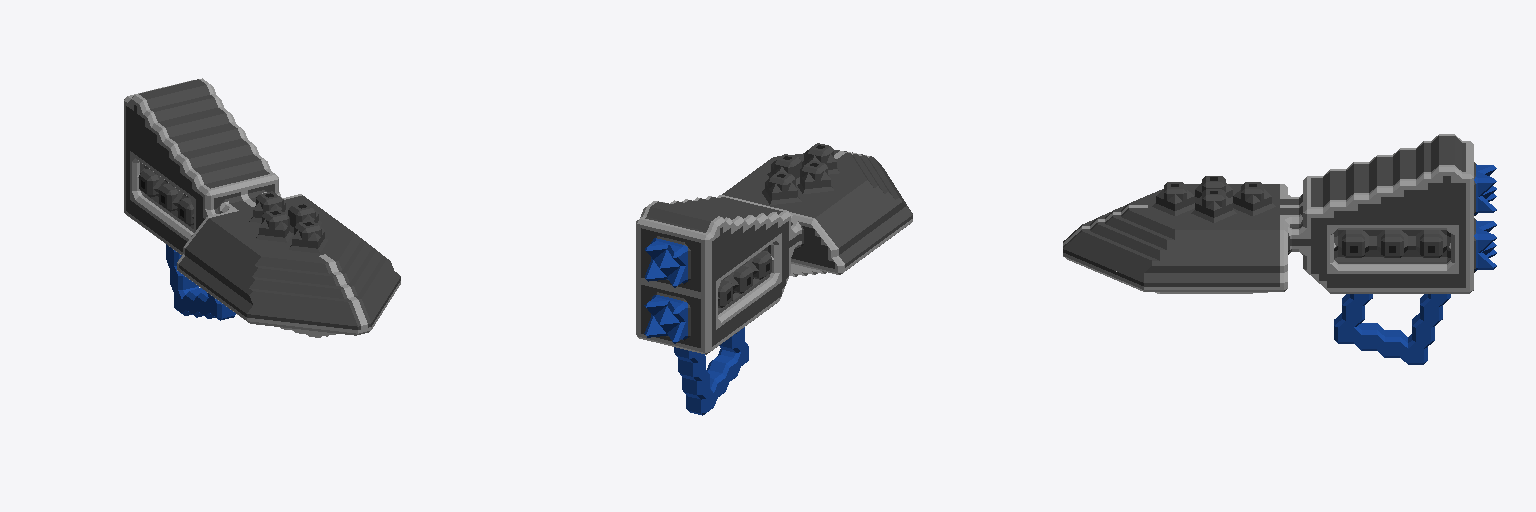
3 renders of one model, left to right at view 1: azimuth 30°, elevation 25°; view 2: azimuth 150°, elevation 25°; view 3: azimuth 270°, elevation 25°, orthographic.
Bounding box in the file's own units: 23 × 30 × 56.
Materials: 1 (1 with a texture image).